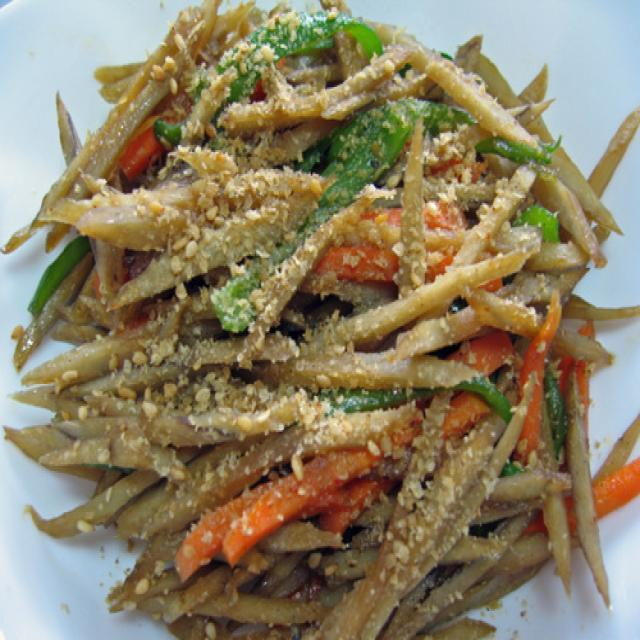蔬菜料理: (10, 19, 626, 608)
